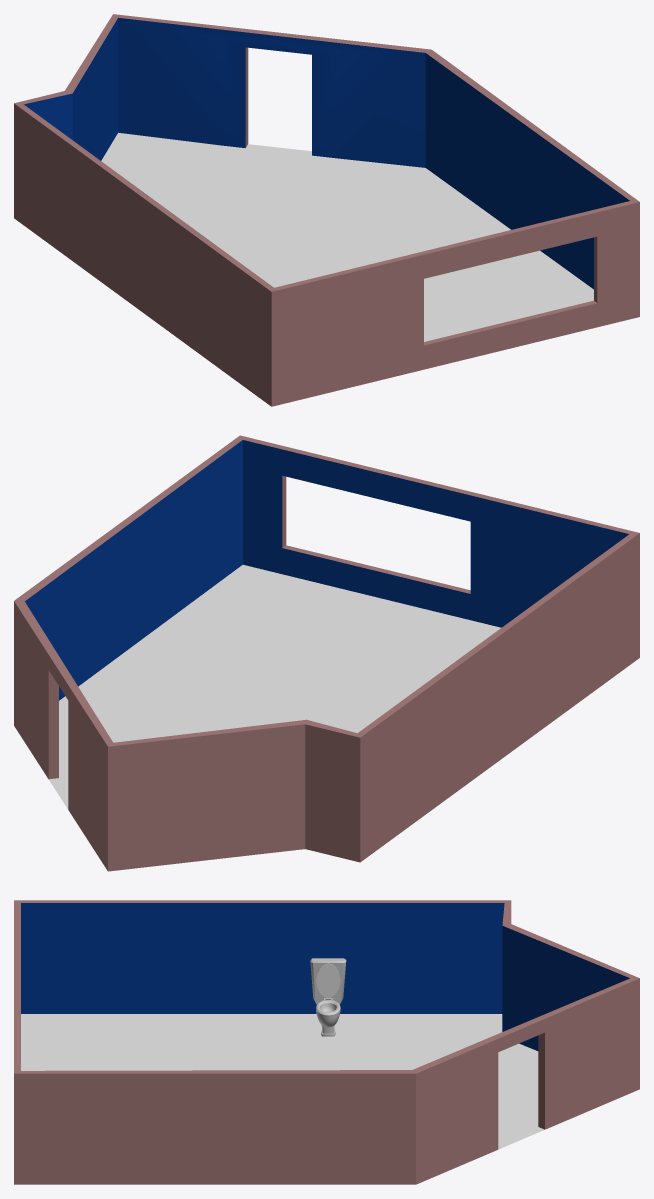
File: Hea_Ba_Toilet.fbx
3 views of the same model, one above another, from view 1: azimuth 30°, elevation 25°; view 2: azimuth 150°, elevation 25°; view 3: azimuth 270°, elevation 25° (orthographic). The views are drawn at different scales.
Visible parts, largest first — view 1: Toilet_Heaven_Base; view 2: Toilet_Heaven_Base; view 3: Toilet_Heaven_Base, Toilet, Toilet_Lid.
Boxes of the visible parts, bbox=[...] form: Toilet_Heaven_Base: bbox=[14, 14, 639, 406]; Toilet_Heaven_Base: bbox=[14, 435, 639, 871]; Toilet_Heaven_Base: bbox=[14, 900, 639, 1184]; Toilet: bbox=[310, 958, 346, 1036]; Toilet_Lid: bbox=[316, 963, 340, 997].
Bounding box in the file's own units: 765 × 228 × 1166.
